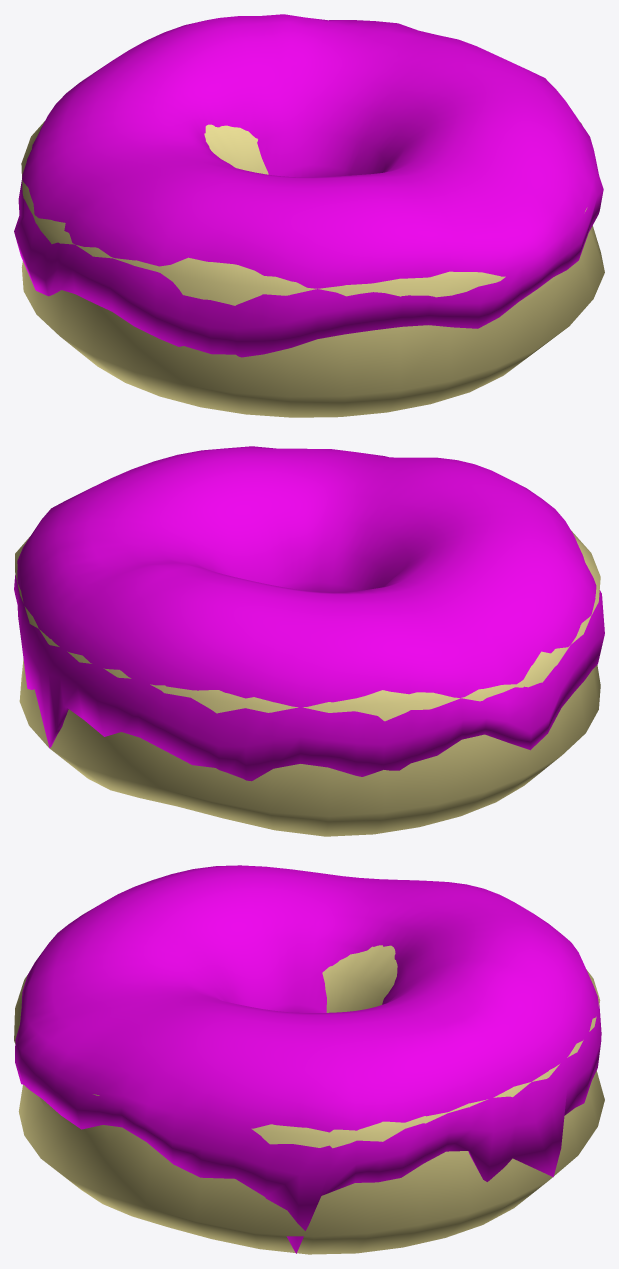
The model's file is donut.glb.
3 renders of one model, top to bottom at view 1: azimuth 30°, elevation 25°; view 2: azimuth 150°, elevation 25°; view 3: azimuth 270°, elevation 25°, orthographic.
Parts seen in each view (by area): view 1: Icing.001, Torus; view 2: Icing.001, Torus; view 3: Icing.001, Torus.
Part boxes in pixels (x1=…): Icing.001: x1=14, y1=14, x2=603, y2=357; Torus: x1=21, y1=121, x2=604, y2=417; Icing.001: x1=14, y1=446, x2=604, y2=781; Torus: x1=15, y1=530, x2=600, y2=836; Icing.001: x1=15, y1=865, x2=601, y2=1253; Torus: x1=14, y1=945, x2=604, y2=1254.
Bounding box in the file's own units: 1.25 × 0.5366 × 1.24.
